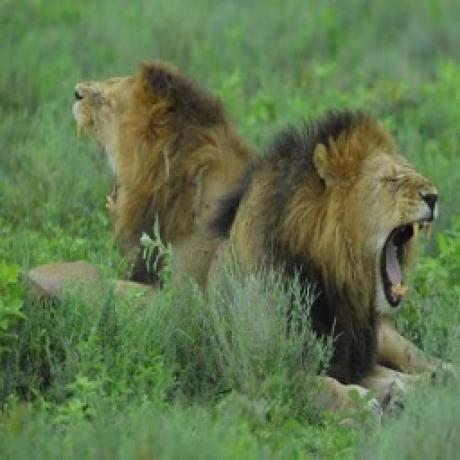Lion: (203, 100, 460, 412), (72, 56, 259, 289)
